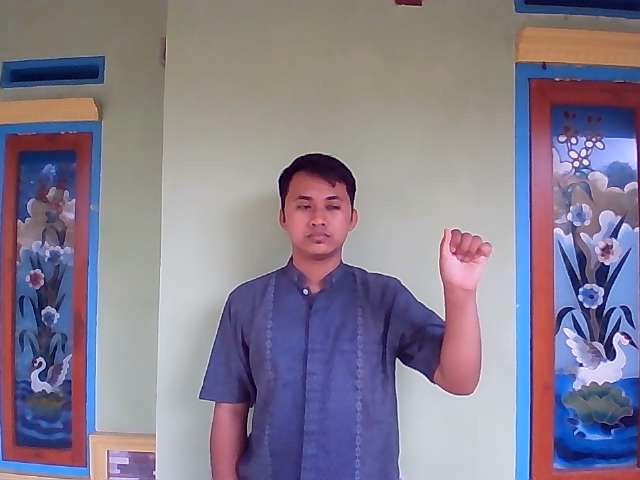A: (431, 222, 497, 305)
